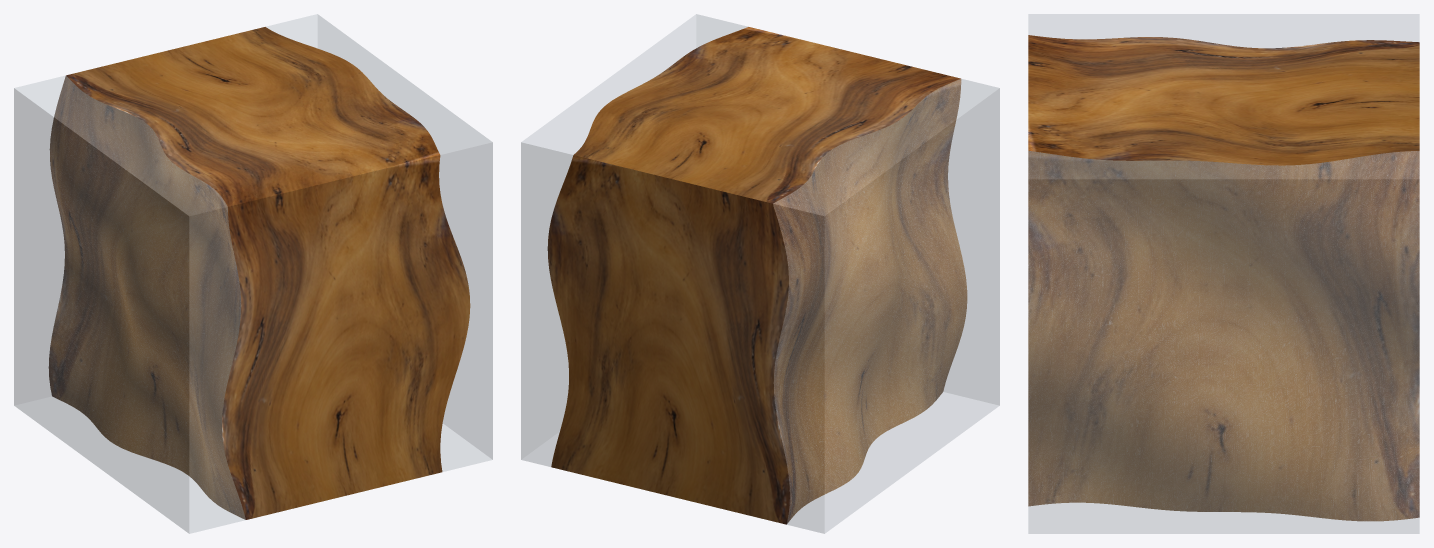
Rendered from V05_stool_reference.glb.
3 renders of one model, left to right at view 1: azimuth 30°, elevation 25°; view 2: azimuth 150°, elevation 25°; view 3: azimuth 270°, elevation 25°, orthographic. The views are drawn at different scales.
Visible parts, largest first — view 1: Irregular solid timber core, Left clear casting, Right clear casting; view 2: Irregular solid timber core, Left clear casting, Right clear casting; view 3: Irregular solid timber core, Right clear casting, Left clear casting.
Part boxes in pixels (box(x1,y1,x2,y2)): Irregular solid timber core: box(48, 27, 470, 519); Left clear casting: box(14, 75, 245, 533); Right clear casting: box(266, 14, 492, 471); Irregular solid timber core: box(547, 27, 967, 524); Left clear casting: box(773, 78, 999, 533); Right clear casting: box(521, 14, 747, 466); Irregular solid timber core: box(1028, 35, 1419, 521); Right clear casting: box(1028, 151, 1419, 533); Left clear casting: box(1028, 14, 1419, 48).
Bounding box in the file's own units: 0.43 × 0.43 × 0.43.
2 materials, 1 textured.
